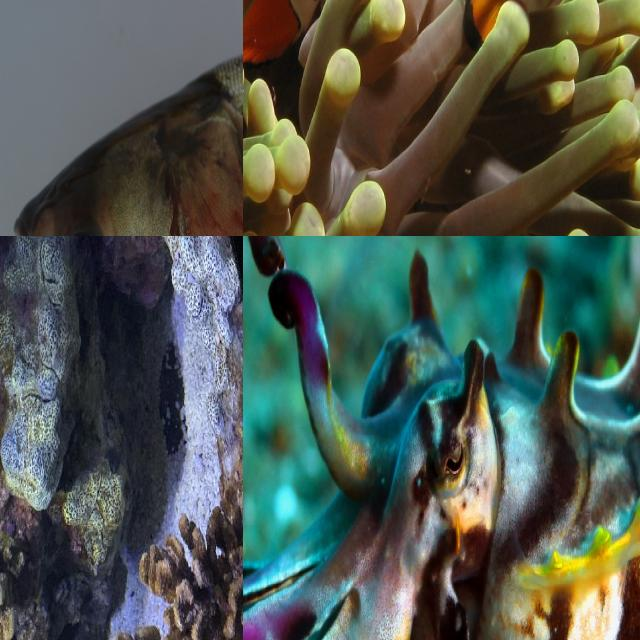fish: (243, 236, 640, 640), (0, 0, 243, 236)
